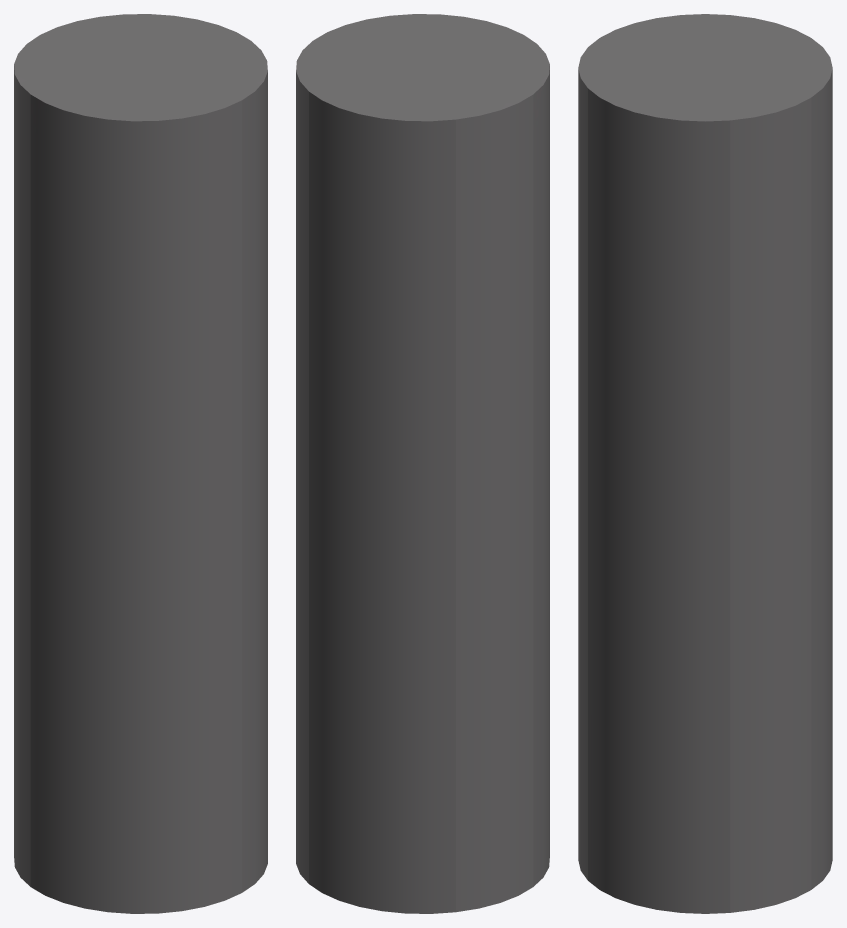
Rendered from support_link__link_tip.glb.
3 renders of one model, left to right at view 1: azimuth 30°, elevation 25°; view 2: azimuth 150°, elevation 25°; view 3: azimuth 270°, elevation 25°, orthographic.
Parts seen in each view (by area): view 1: world; view 2: world; view 3: world.
Boxes of the visible parts, left/top/right/bottom form: world: left=14, top=14, right=267, bottom=913; world: left=296, top=14, right=549, bottom=913; world: left=578, top=14, right=832, bottom=913.
Bounding box in the file's own units: 0.032 × 0.11 × 0.032.
Materials: 1 (1 with a texture image).
